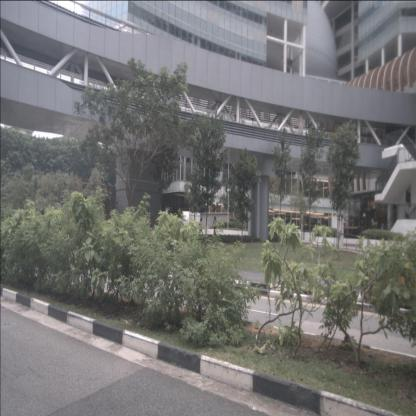human-pedestrian-adult: (199, 217, 203, 237), (213, 216, 217, 236)
